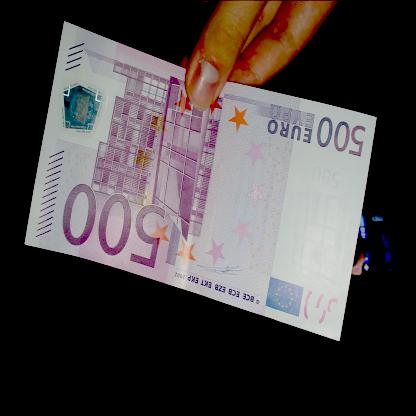euro_banknote: (26, 70, 382, 295)
